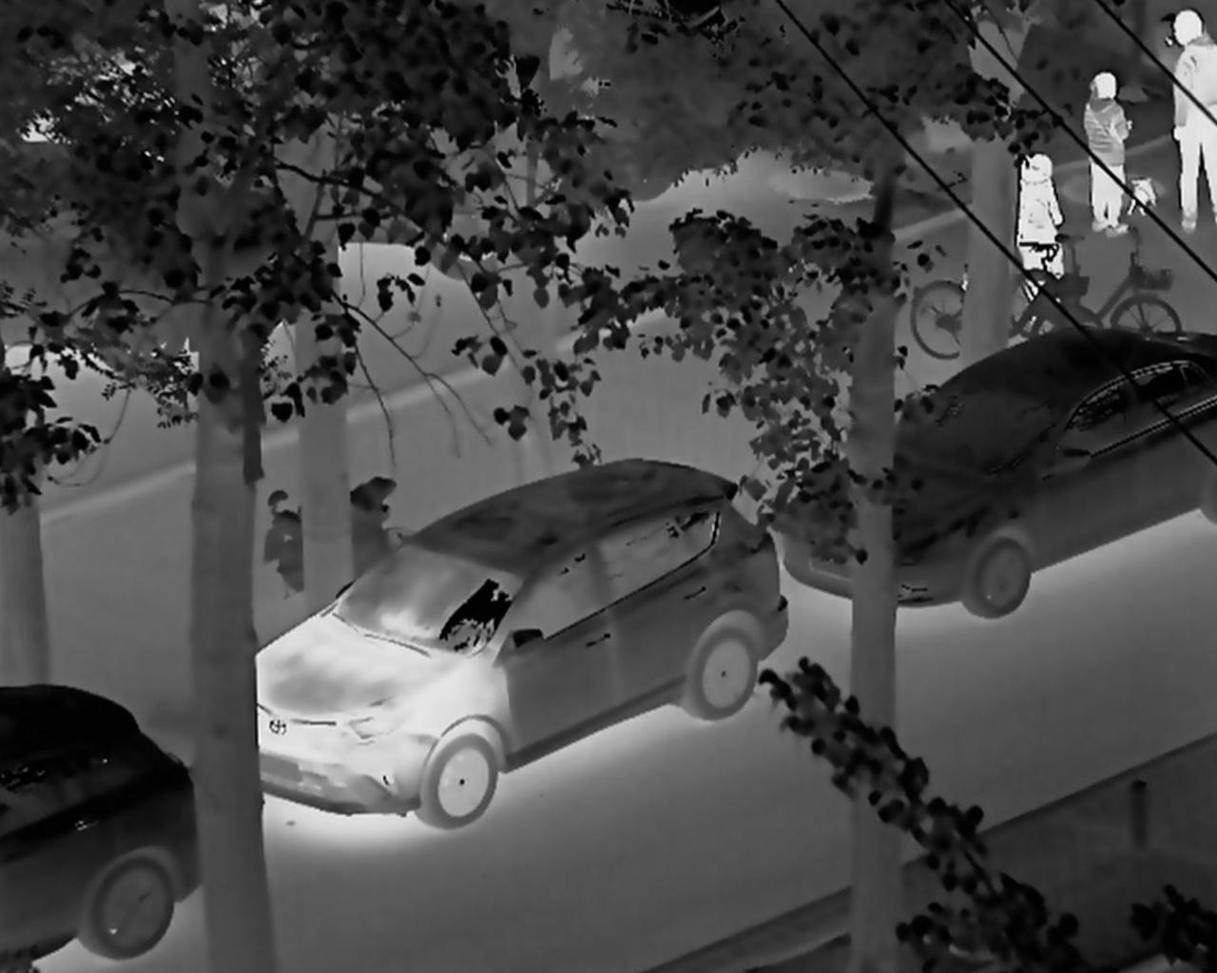person: (1161, 9, 1217, 244), (1074, 68, 1139, 241), (1017, 151, 1072, 298)
